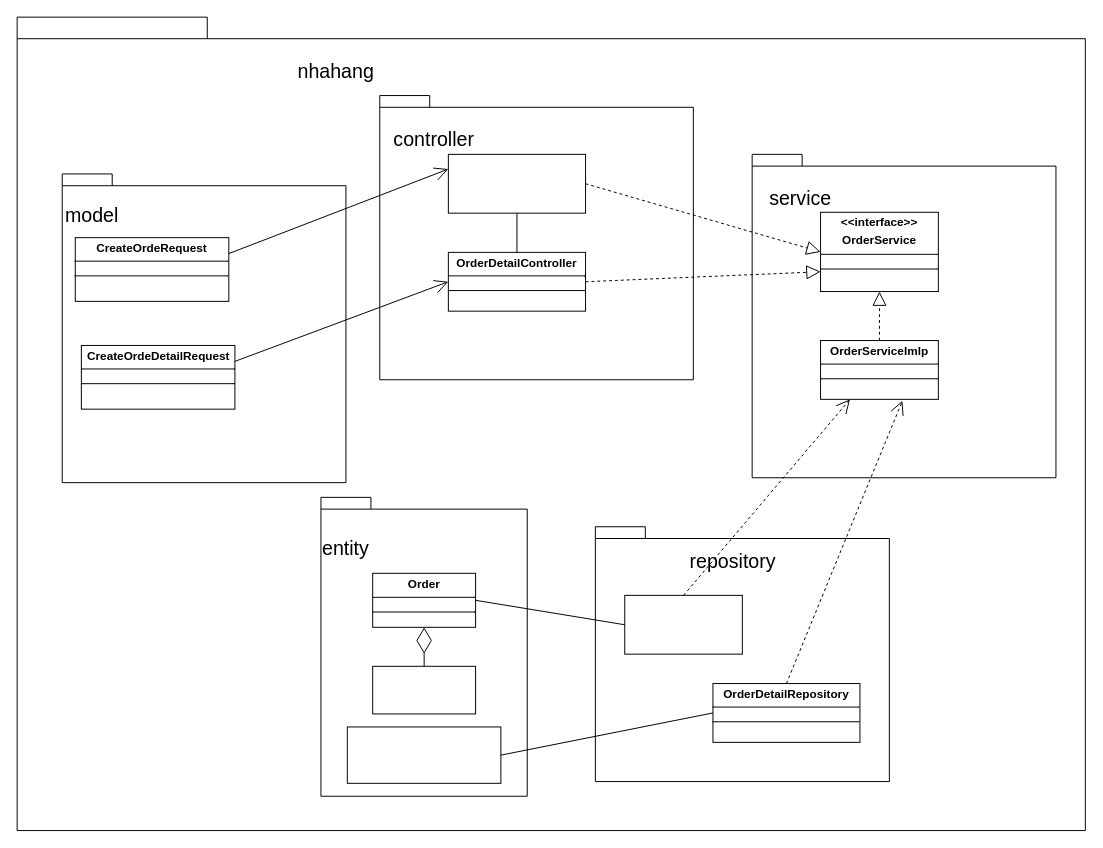
Some shapes in this 1103 by 848 pixel diagram are drawn without their labels. The centre of each missing label's shape, as x and y in pixels:
"OrdeDetail" belongs at [423,754].
"OrderController" belongs at [516,183].
"OrderRepository" belongs at [683,624].
"OrderStatus" belongs at [424,689].
